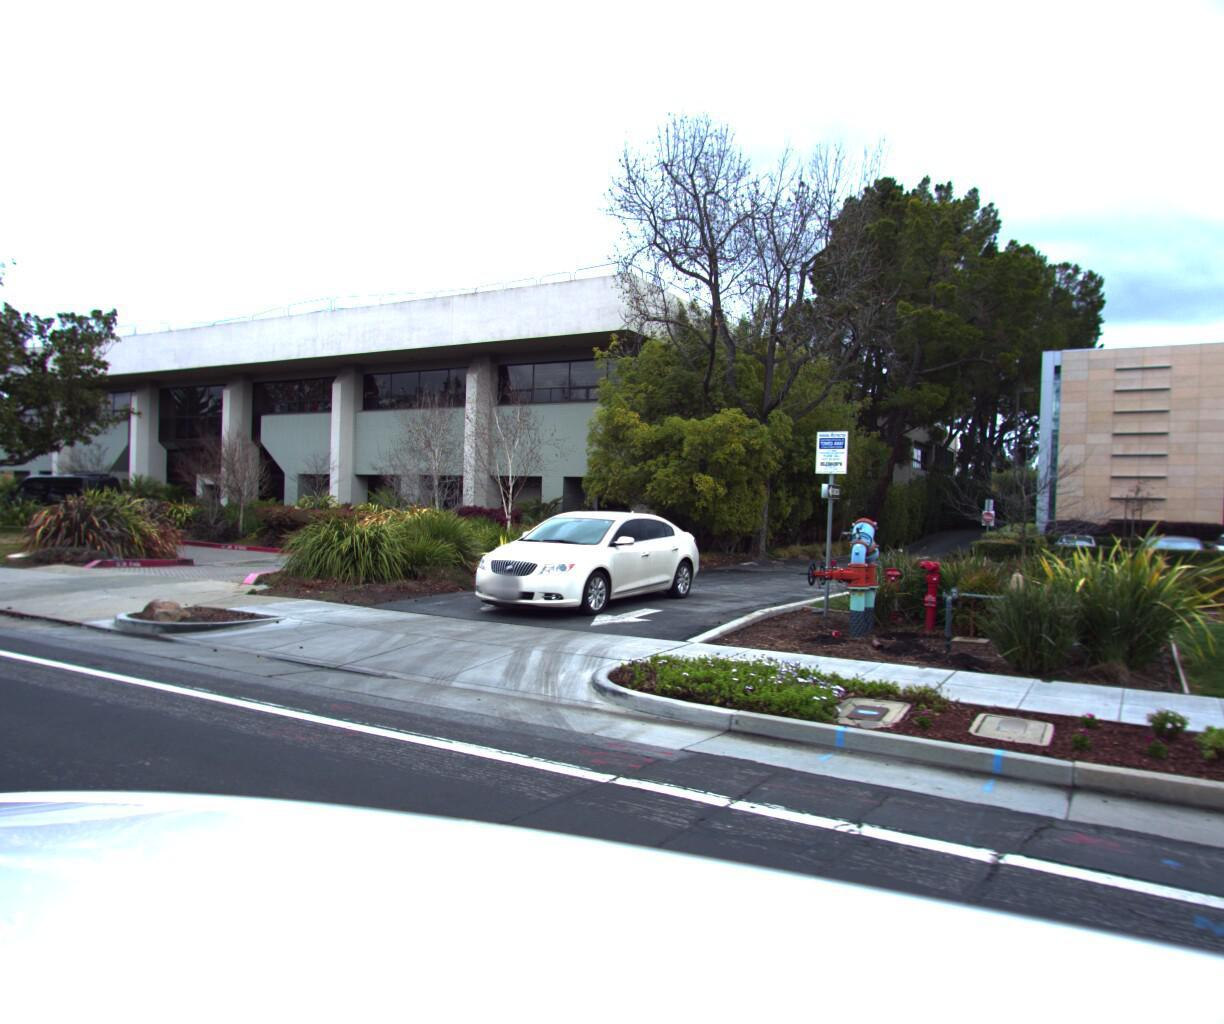car: (443, 508, 711, 627), (0, 478, 131, 546)
